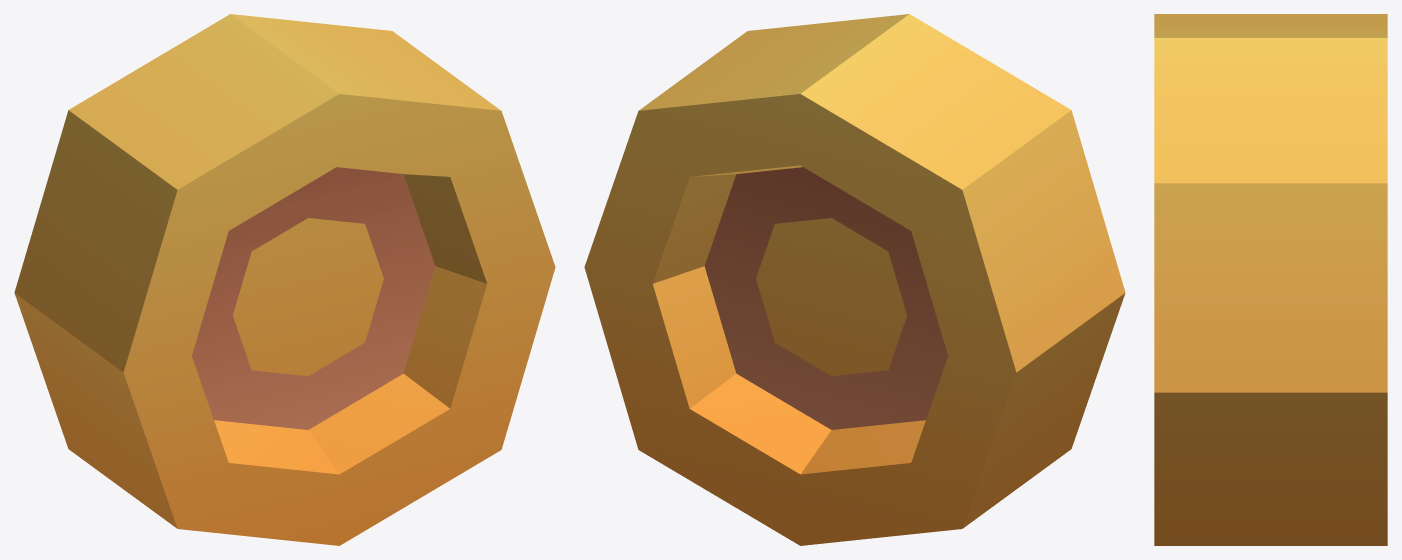
The model's file is coin.glb.
The picture shows the model from 3 angles, left to right: view 1: azimuth 30°, elevation 25°; view 2: azimuth 150°, elevation 25°; view 3: azimuth 270°, elevation 25°; orthographic projection. The views are drawn at different scales.
Visible parts, largest first — view 1: coin-gold; view 2: coin-gold; view 3: coin-gold.
Boxes of the visible parts, box(x1,y1,x2,y2) form: coin-gold: box(14, 14, 555, 545); coin-gold: box(584, 14, 1125, 545); coin-gold: box(1154, 14, 1387, 545).
Size of the model in its own units: 0.4 by 0.4 by 0.175.
1 material, 1 textured.
